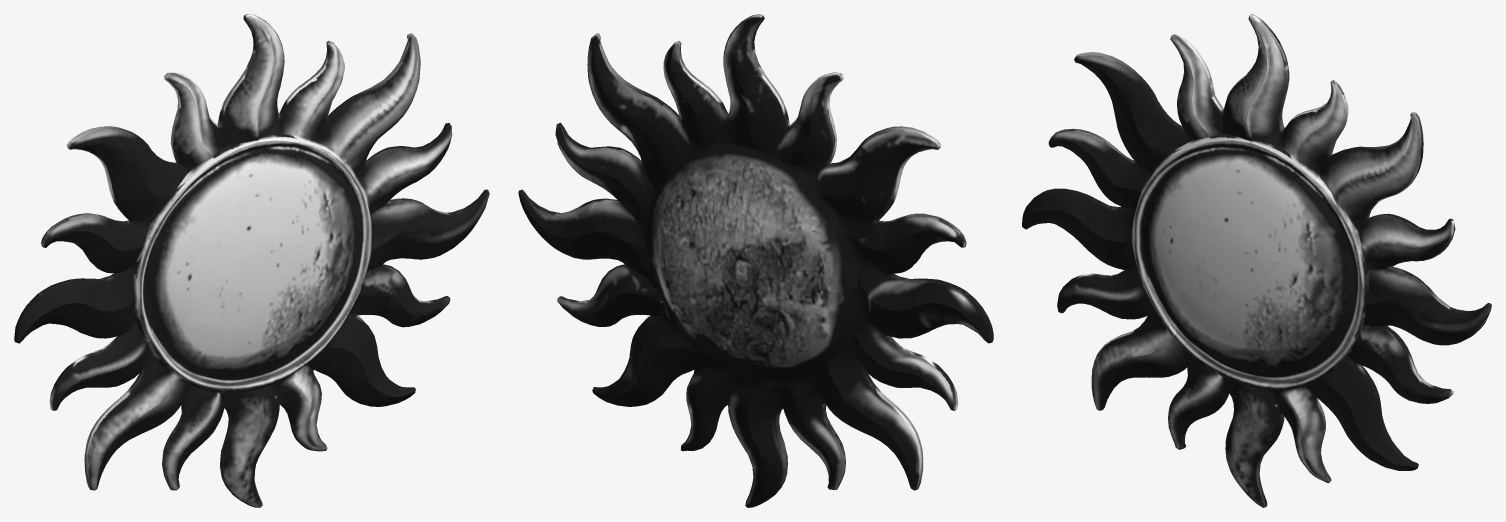
Rendered from sun-silver.glb.
3 renders of one model, left to right at view 1: azimuth 30°, elevation 25°; view 2: azimuth 150°, elevation 25°; view 3: azimuth 330°, elevation 25°, orthographic.
Parts seen in each view (by area): view 1: geometry_0; view 2: geometry_0; view 3: geometry_0.
Boxes of the visible parts, left/top/right/bottom form: geometry_0: left=14, top=14, right=489, bottom=507; geometry_0: left=518, top=14, right=993, bottom=507; geometry_0: left=1022, top=14, right=1491, bottom=507.
Size of the model in its own units: 0.15 by 0.1501 by 0.017.
Materials: 1 (1 with a texture image).
